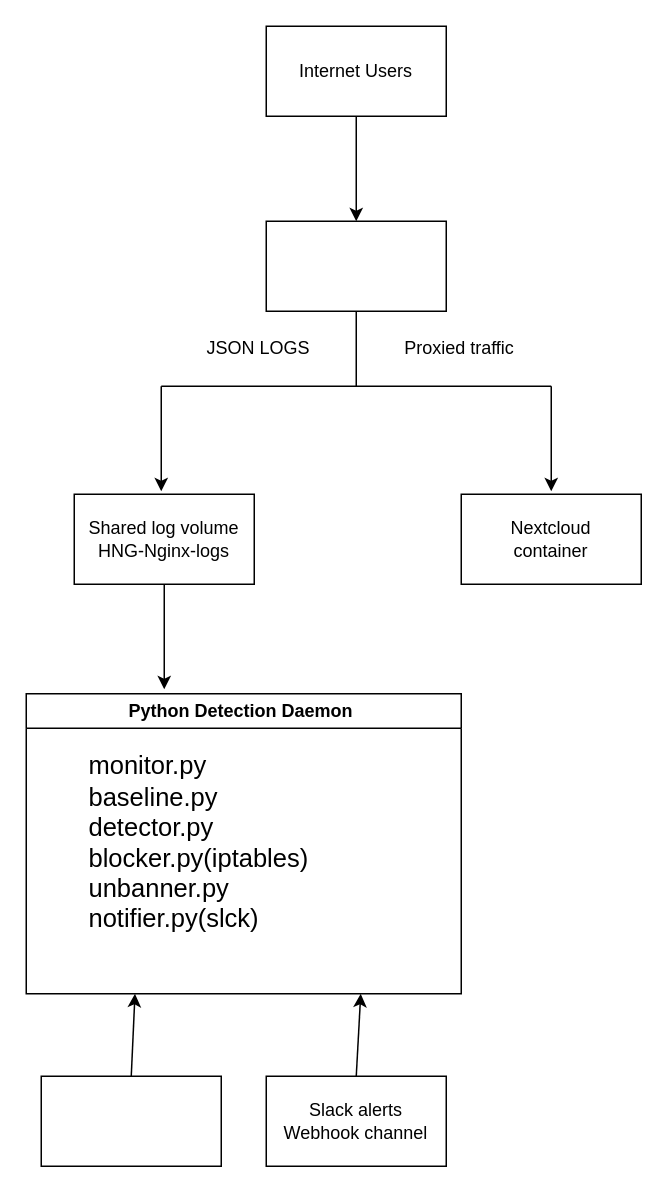
The diagram is 668 pixels wide and 1193 high, and some of its shapes have lost their labels. Here are the shapes that lost their labels. From the top down, the centre of each, then its label:
At (x=355, y=265): "NGINX Reverse Proxy".
At (x=130, y=1120): "Dashboard UI Port 5000".
